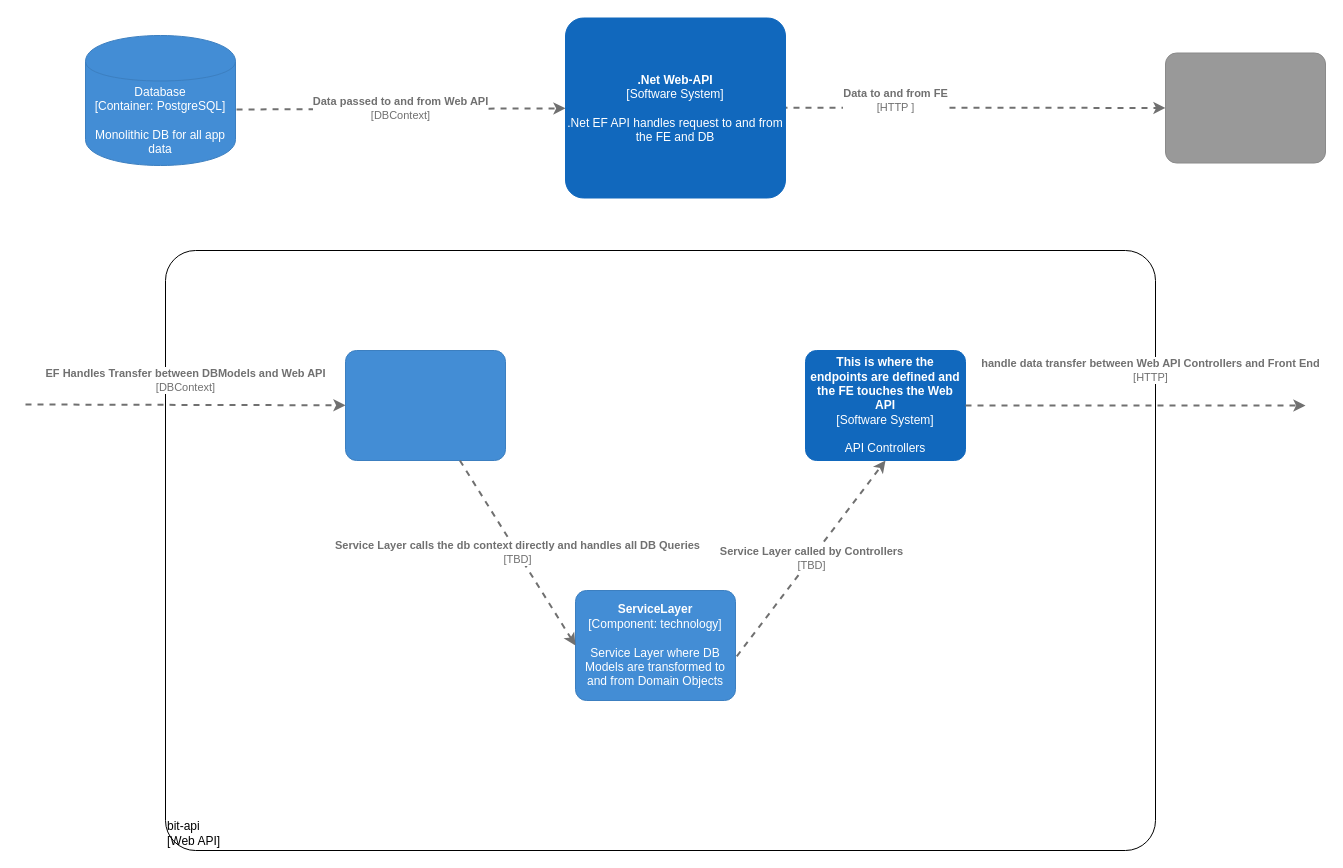
Some shapes in this 1343 by 868 pixel diagram are drawn without their labels. Each missing label, with the box of its shape:
[Component: .Net EF] EF Models from DB: (344, 350, 506, 460)
bit-fe [Software System] Front End React Web App for the user: (1164, 52, 1326, 163)
